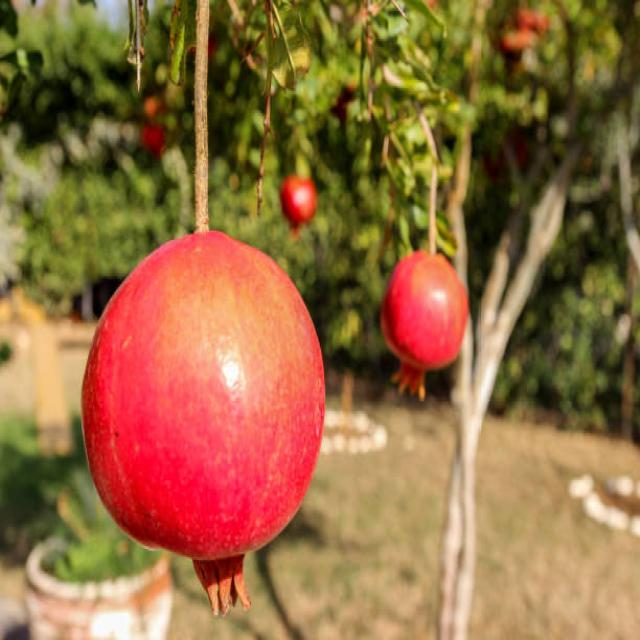Ripe: (79, 227, 331, 615), (373, 251, 469, 403)
